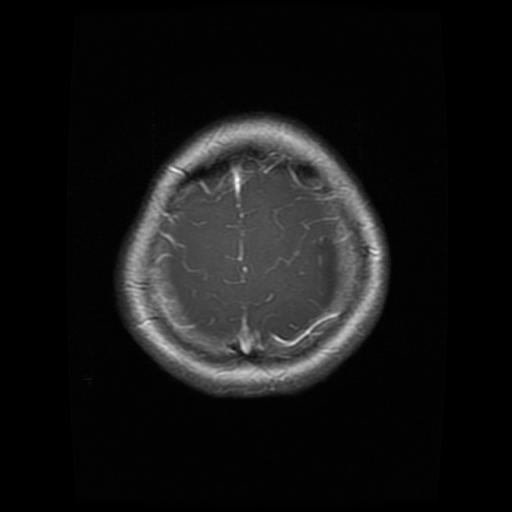Gliomia_tumour: (314, 235, 335, 303)
